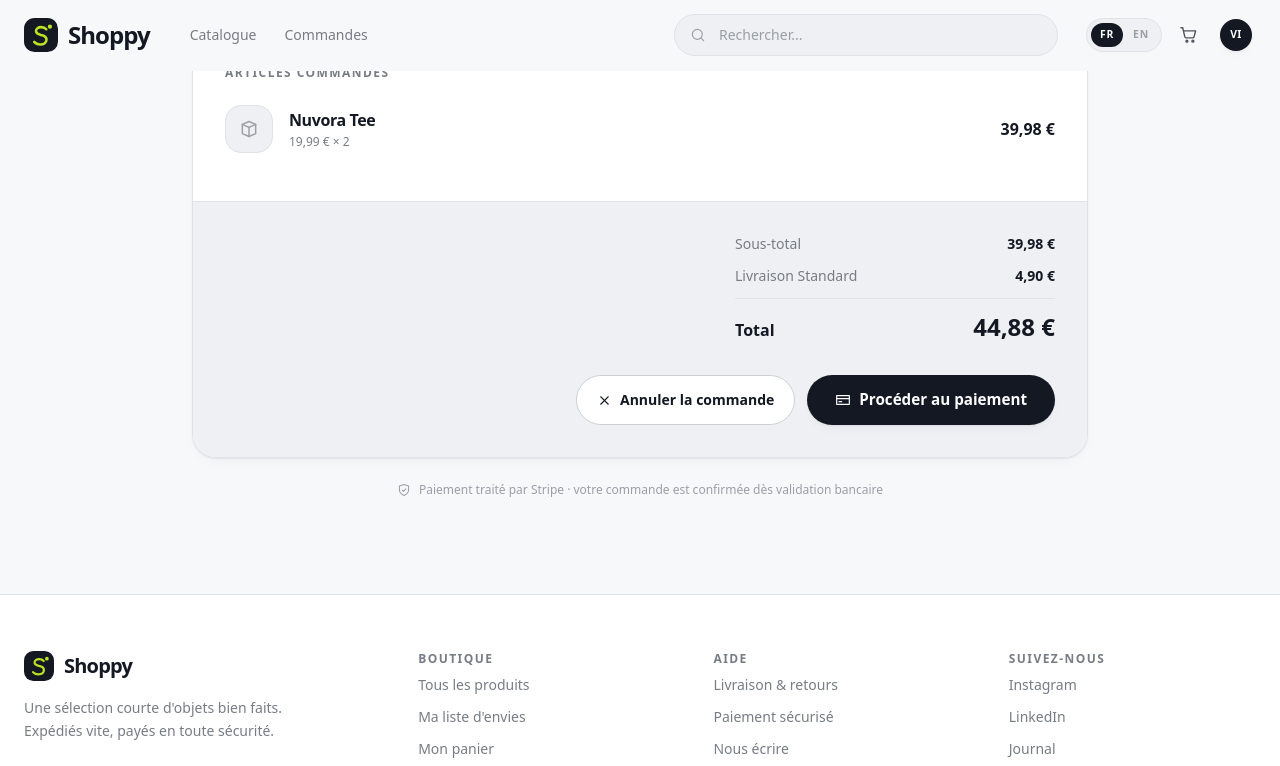
Test case: OrderDetailPage › shows a payment error
The width and height of the screenshot is (1280, 766).
(page scrolled)
Click the button "Procéder au paiement". click: click(931, 400)
box: [807,375,1055,425]
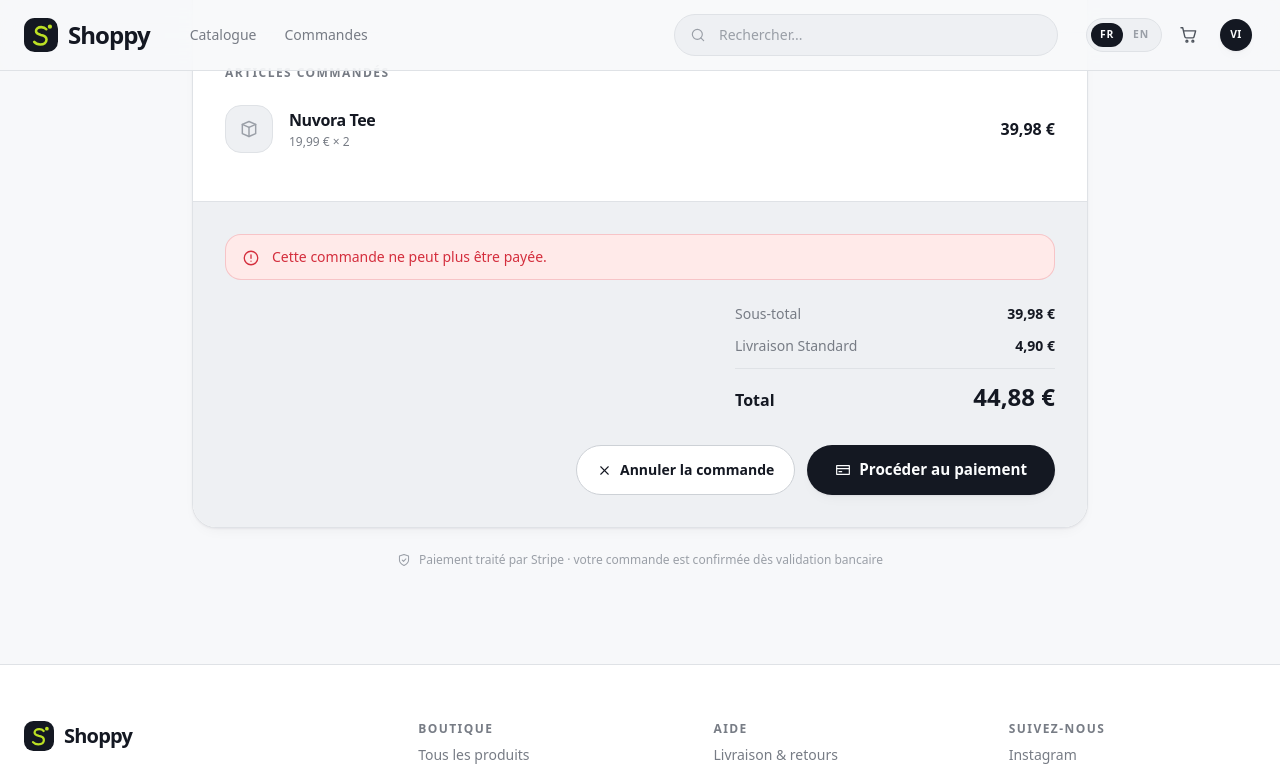
Now the message reads "Cette commande ne peut plus être payée.", box [272,247,547,266]
